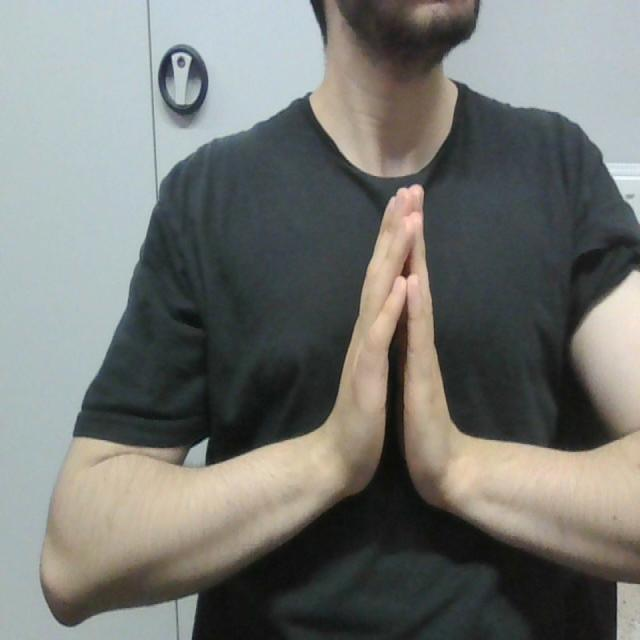Ozur-Dilemek: (336, 179, 456, 525)
